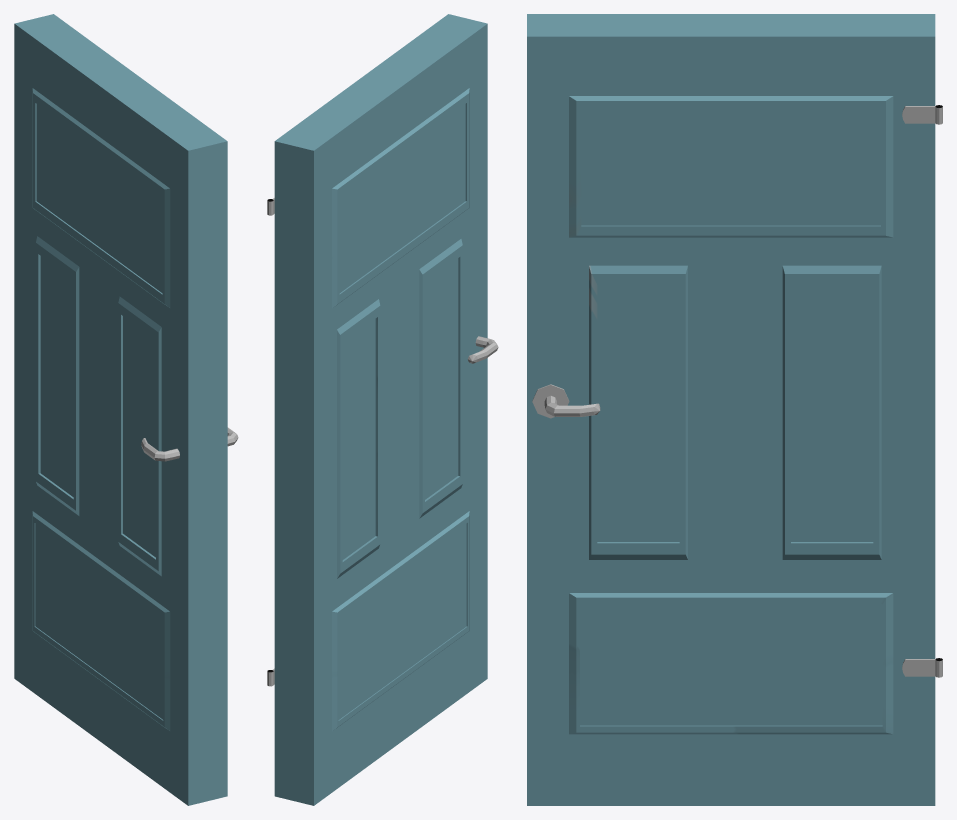
File: Door.glb
3 renders of one model, left to right at view 1: azimuth 30°, elevation 25°; view 2: azimuth 150°, elevation 25°; view 3: azimuth 270°, elevation 25°, orthographic. The views are drawn at different scales.
Parts seen in each view (by area): view 1: Cube.001; view 2: Cube.001; view 3: Cube.001.
Boxes of the visible parts, x1,y1,x2,y2 form: Cube.001: [14, 14, 238, 805]; Cube.001: [267, 14, 498, 805]; Cube.001: [527, 14, 942, 805].
Size of the model in its own units: 0.427 by 3.18 by 1.56.
Materials: 1 (1 with a texture image).
